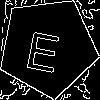E: (23, 21, 65, 73)
